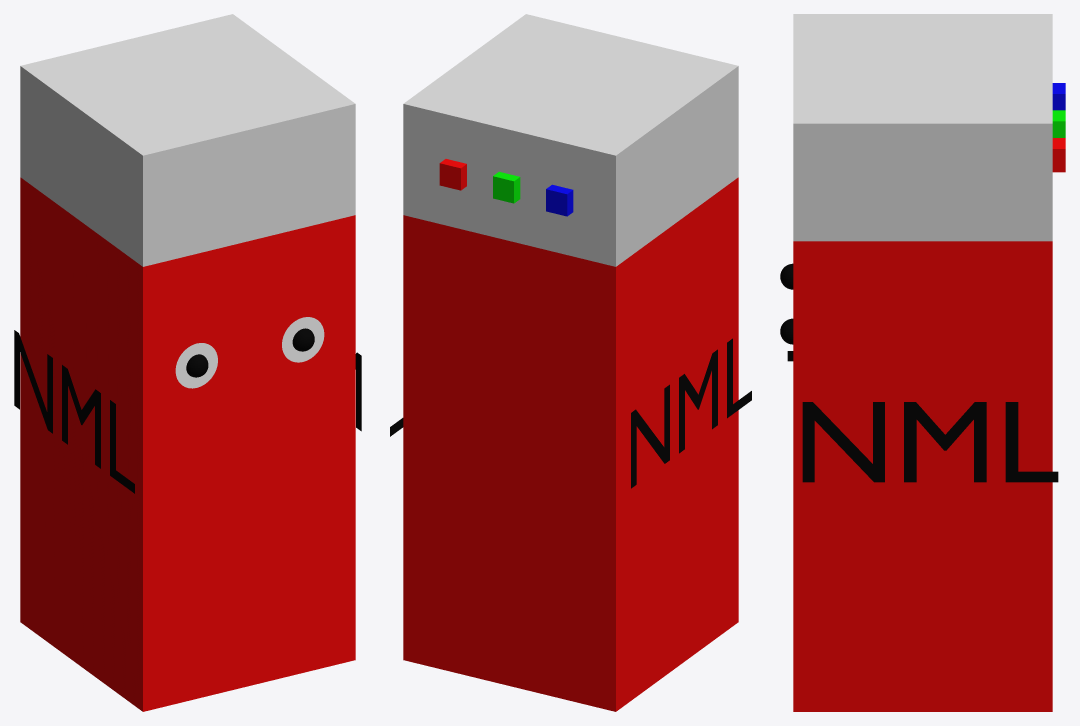
The picture shows the model from 3 angles, left to right: view 1: azimuth 30°, elevation 25°; view 2: azimuth 150°, elevation 25°; view 3: azimuth 270°, elevation 25°; orthographic projection. The views are drawn at different scales.
Parts seen in each view (by area): view 1: Cube, Cube.001, Text, rEye, lEye; view 2: Cube, Cube.001, Text, Cube.003, Cube.004, Cube.002; view 3: Cube, Cube.001, Text.001, Cube.002.
Part boxes in pixels (bbox=[...]): Cube: bbox=[20, 177, 355, 711]; Cube.001: bbox=[20, 14, 355, 266]; Text: bbox=[14, 330, 134, 493]; rEye: bbox=[282, 317, 324, 362]; lEye: bbox=[175, 343, 217, 388]; Cube: bbox=[403, 177, 738, 711]; Cube.001: bbox=[403, 14, 738, 266]; Text: bbox=[631, 338, 751, 488]; Cube.003: bbox=[493, 171, 520, 203]; Cube.004: bbox=[546, 184, 573, 216]; Cube.002: bbox=[439, 159, 466, 190]; Cube: bbox=[793, 241, 1052, 711]; Cube.001: bbox=[793, 14, 1052, 241]; Text.001: bbox=[802, 402, 1058, 482]; Cube.002: bbox=[1052, 138, 1065, 172].
Bounding box in the file's own units: 2.2 × 5 × 2.2.
